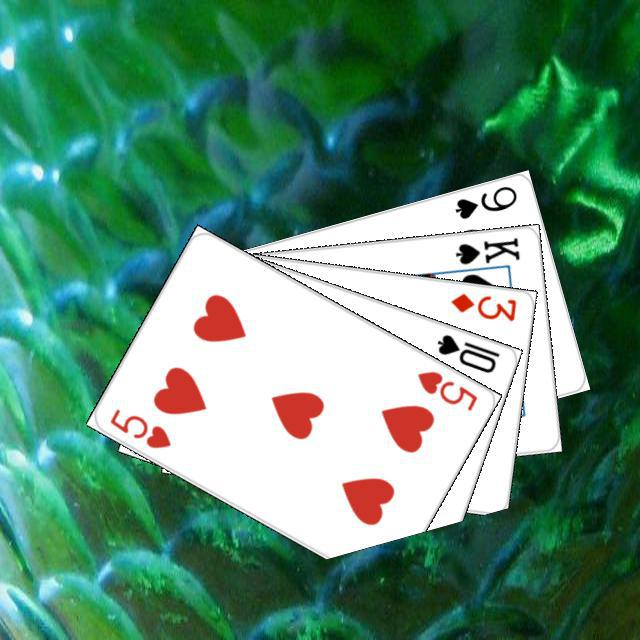10s: (432, 329, 502, 375)
3d: (446, 288, 518, 324)
5h: (104, 403, 173, 451), (412, 365, 479, 413)
9s: (450, 181, 519, 221)
Ks: (450, 232, 522, 266)
